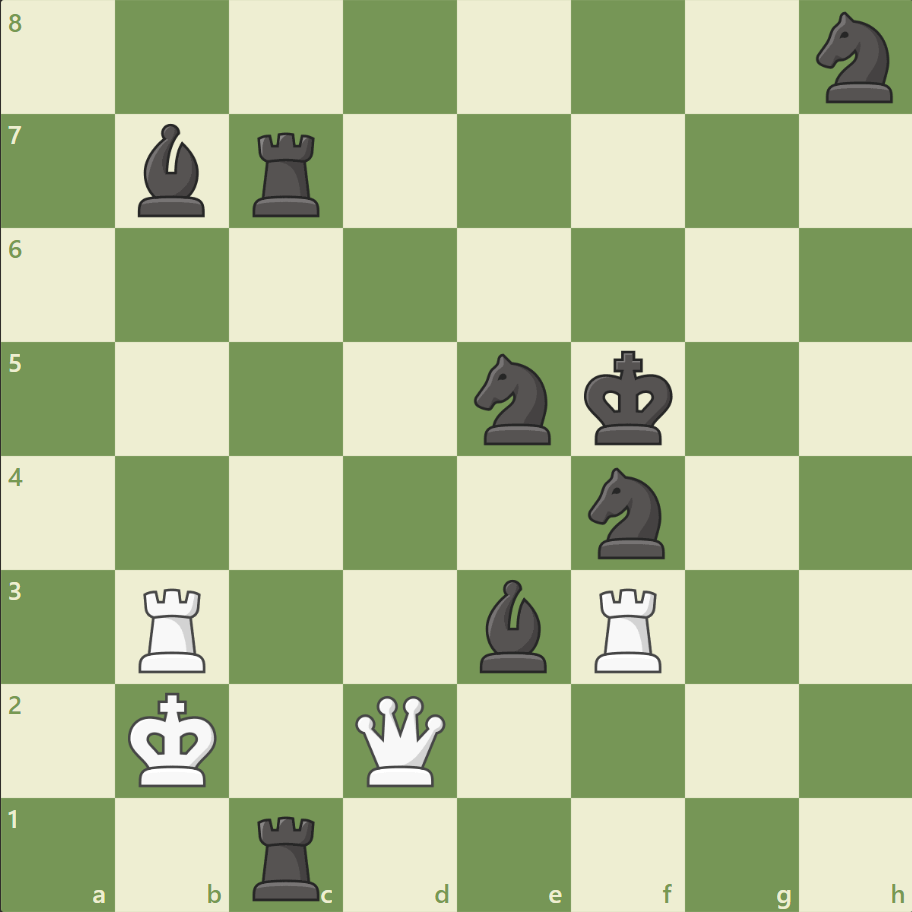K: (124, 685, 224, 793)
Q: (351, 690, 450, 789)
R: (587, 579, 670, 676), (133, 579, 215, 676)
b: (131, 120, 215, 222), (471, 574, 555, 676)
k: (579, 344, 679, 452)
n: (806, 7, 903, 110), (579, 461, 676, 564), (465, 348, 562, 450)
r: (246, 806, 329, 904), (246, 125, 329, 222)
